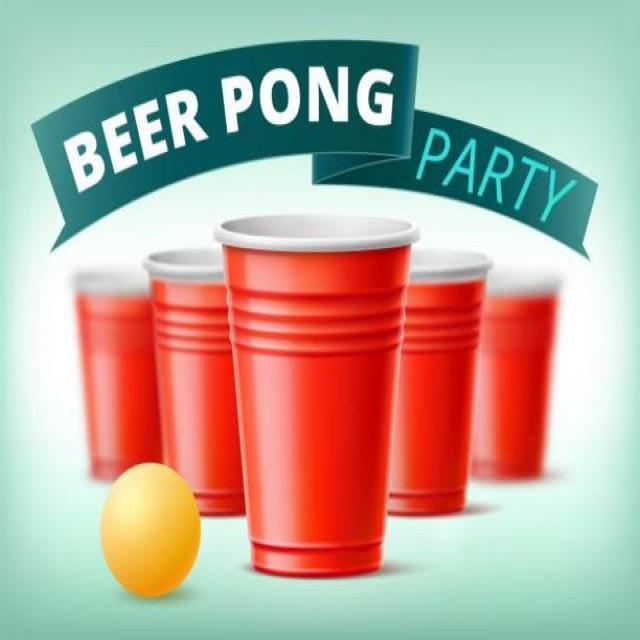oball: (100, 457, 200, 591)
